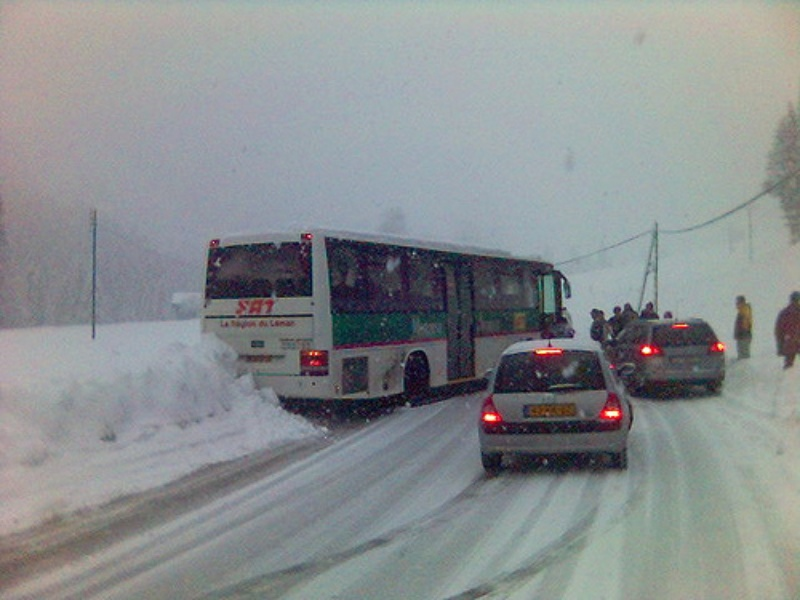car: (201, 226, 571, 407), (479, 338, 635, 471), (607, 317, 724, 395)
person: (774, 291, 800, 367), (733, 296, 753, 358)
